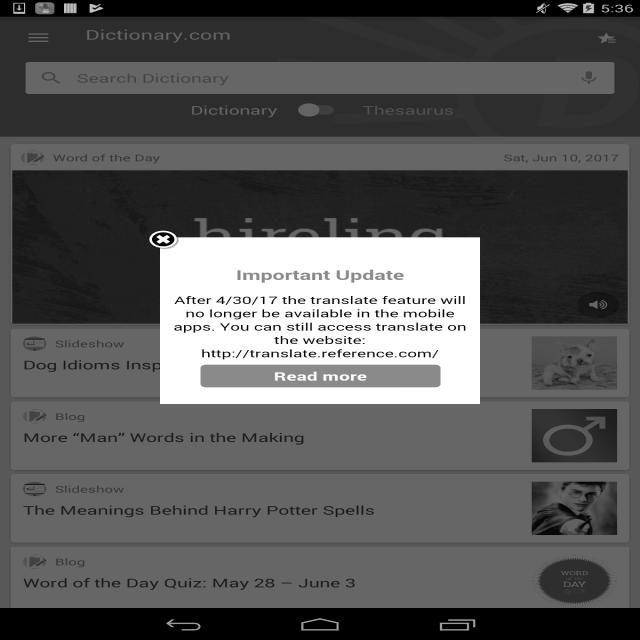Button: (193, 360, 450, 391)
EditText-: (11, 57, 628, 97)
ImageButton: (21, 28, 63, 50), (579, 292, 615, 317), (144, 227, 183, 250), (590, 27, 627, 49)
ImageView: (527, 334, 623, 390), (527, 407, 621, 464), (528, 478, 616, 536), (530, 556, 621, 606)
Switch: (292, 100, 346, 122)
TextView: (171, 287, 474, 335), (18, 429, 323, 452), (18, 502, 396, 520), (21, 574, 369, 591), (76, 26, 247, 48), (232, 263, 412, 282), (188, 103, 284, 122), (363, 103, 463, 121)
